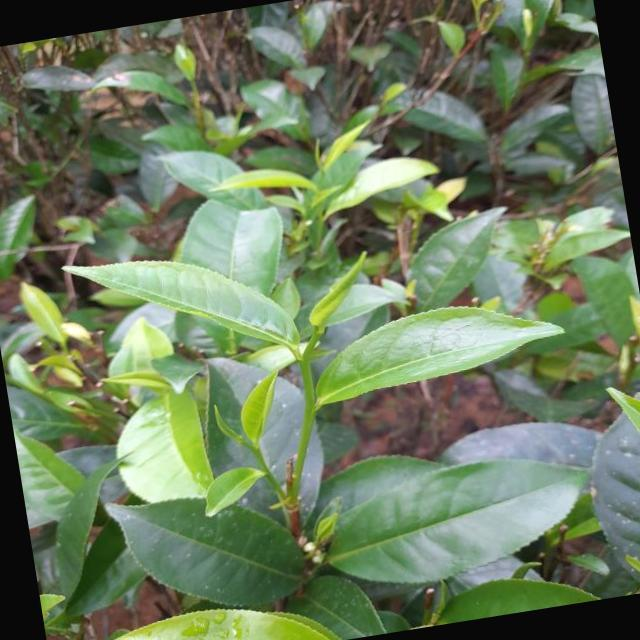Stem: (300, 358, 313, 398), (255, 449, 265, 465)
